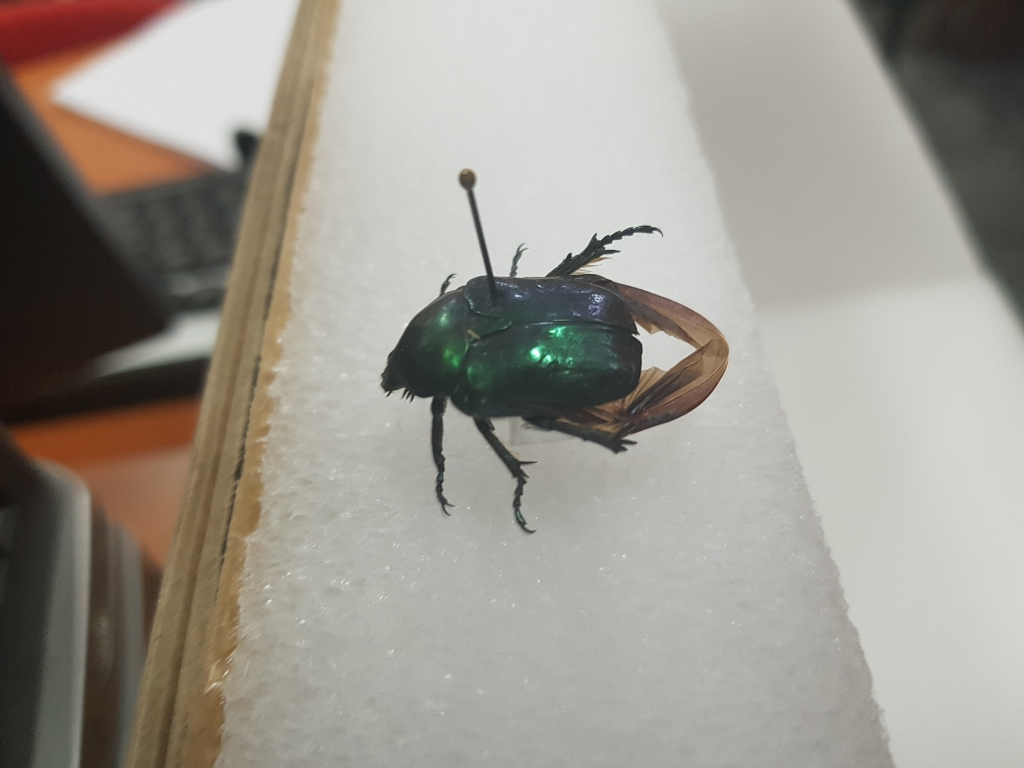Protaetia_angustata_angustata: (367, 210, 731, 540)
